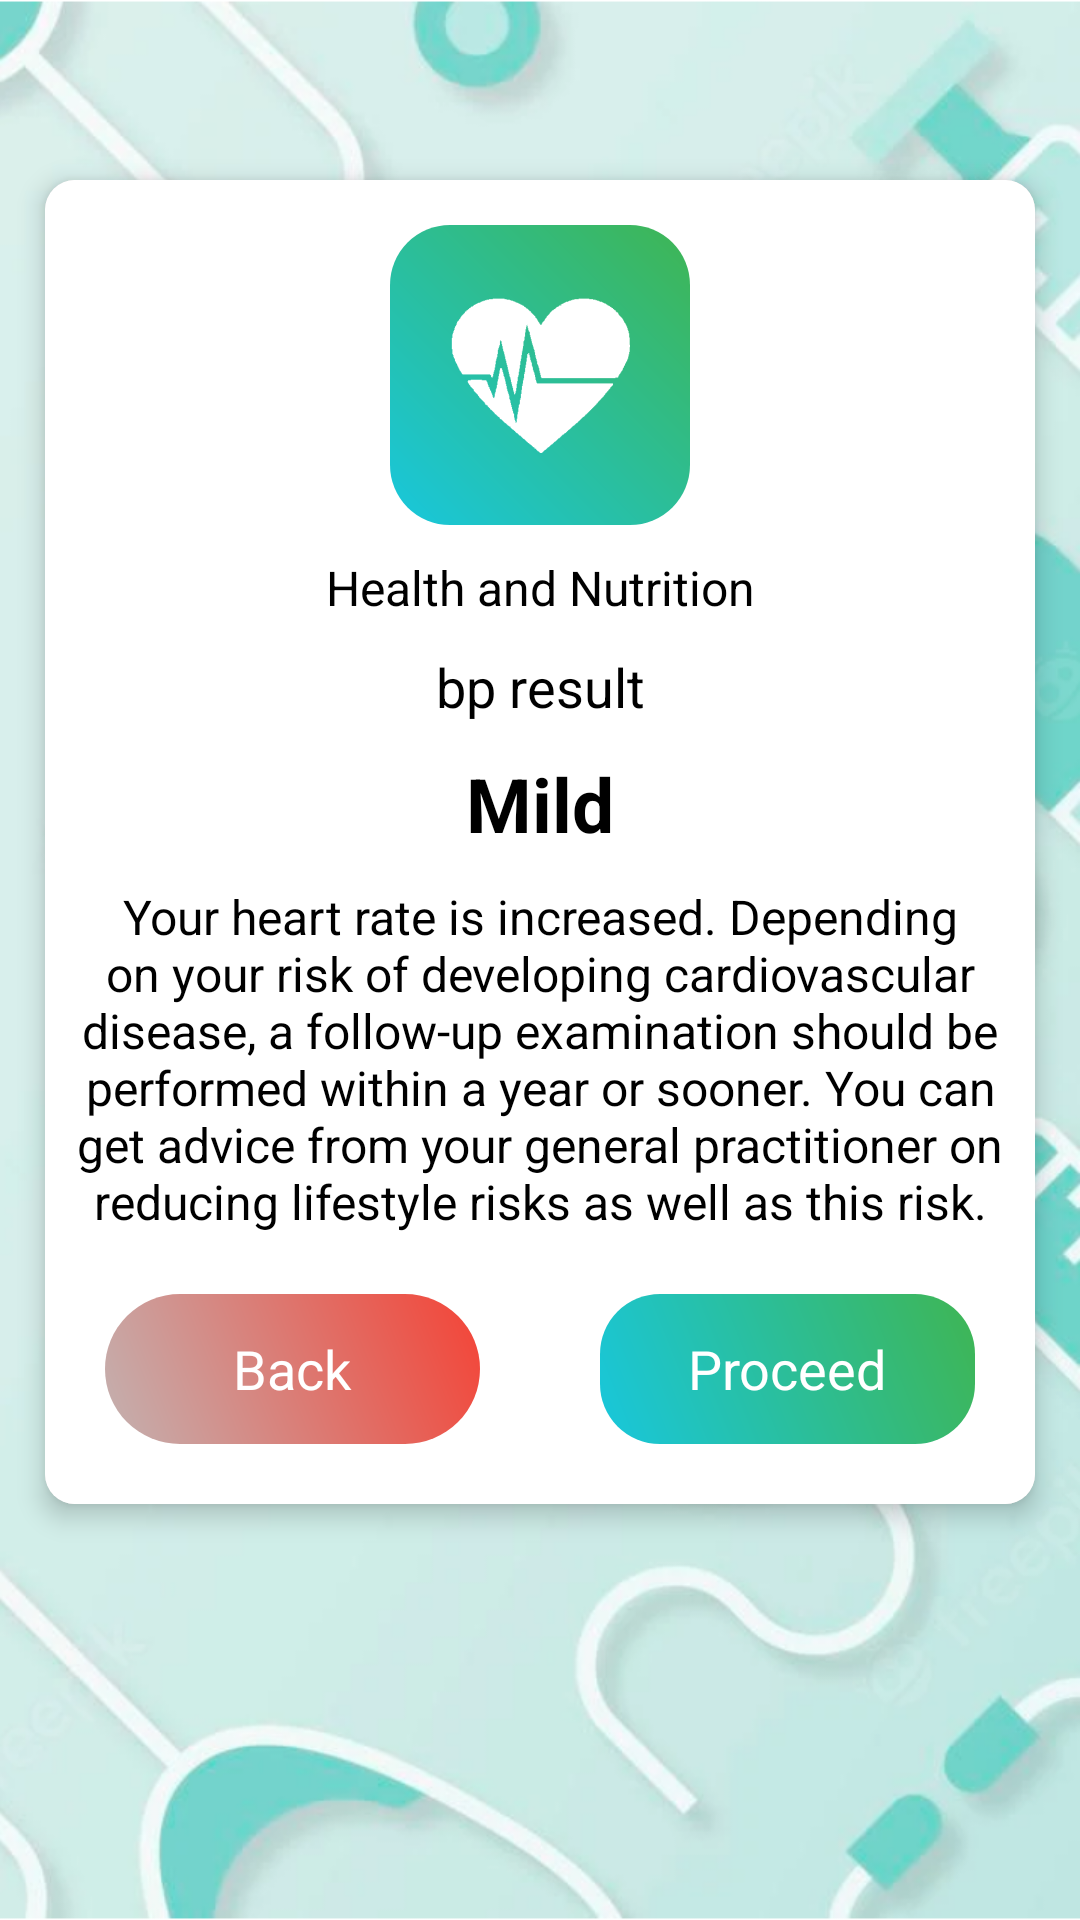

Point at icon controls on the screen. Image size 1080 × 1920, points as [x,y].
heart: [540,375]
